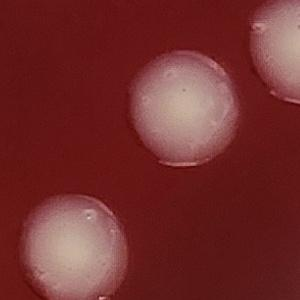colony: (124, 46, 244, 173), (13, 189, 134, 300), (244, 0, 300, 110)
